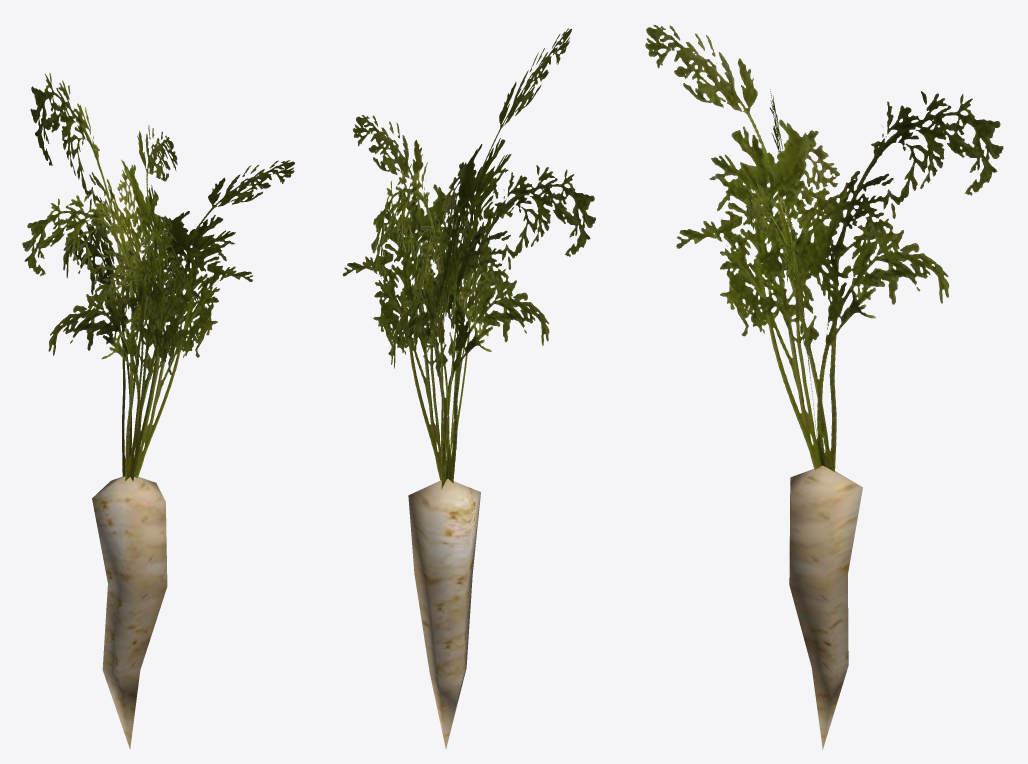
The model's file is KM_VOB_PARSLEY.glb.
3 views of the same model, side by side, from view 1: azimuth 30°, elevation 25°; view 2: azimuth 150°, elevation 25°; view 3: azimuth 270°, elevation 25° (orthographic). The views are drawn at different scales.
Visible parts, largest first — view 1: Mesh; view 2: Mesh; view 3: Mesh.
Boxes of the visible parts, <box> form: Mesh: <box>22,73,294,749</box>; Mesh: <box>342,28,595,748</box>; Mesh: <box>645,25,1003,749</box>.
Size of the model in its own units: 0.4625 by 1.14 by 0.546.
Materials: 1 (1 with a texture image).
